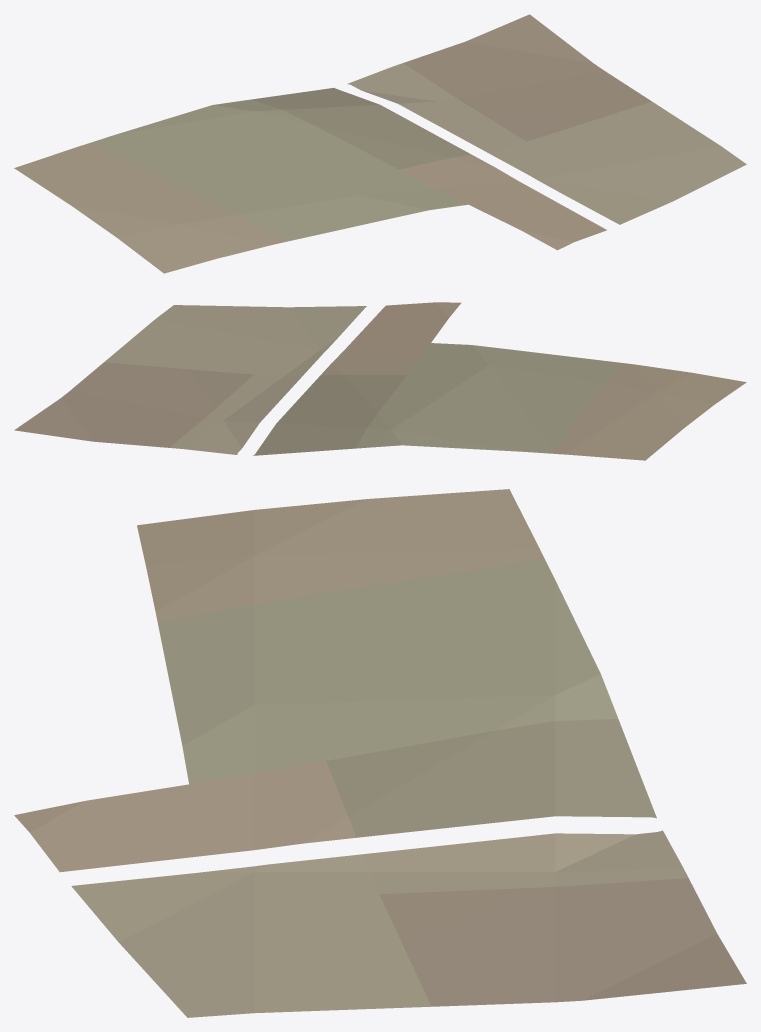
File: farm_20_20_soil.glb
The picture shows the model from 3 angles, top to bottom: view 1: azimuth 30°, elevation 25°; view 2: azimuth 150°, elevation 25°; view 3: azimuth 270°, elevation 25°; orthographic projection. The views are drawn at different scales.
Parts seen in each view (by area): view 1: geometry_0; view 2: geometry_0; view 3: geometry_0.
Boxes of the visible parts, box(x1,y1,x2,y2) form: geometry_0: box(14, 14, 746, 273); geometry_0: box(14, 302, 746, 460); geometry_0: box(14, 489, 746, 1017).
Bounding box in the file's own units: 273 × 27.61 × 195.
